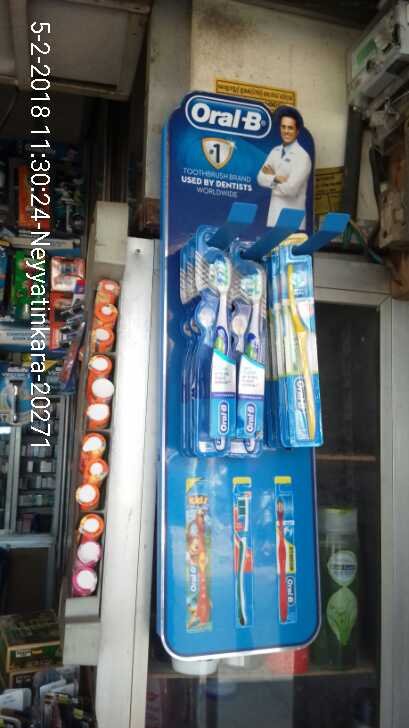oralb: (275, 234, 324, 448), (195, 223, 238, 440), (231, 238, 263, 442)
